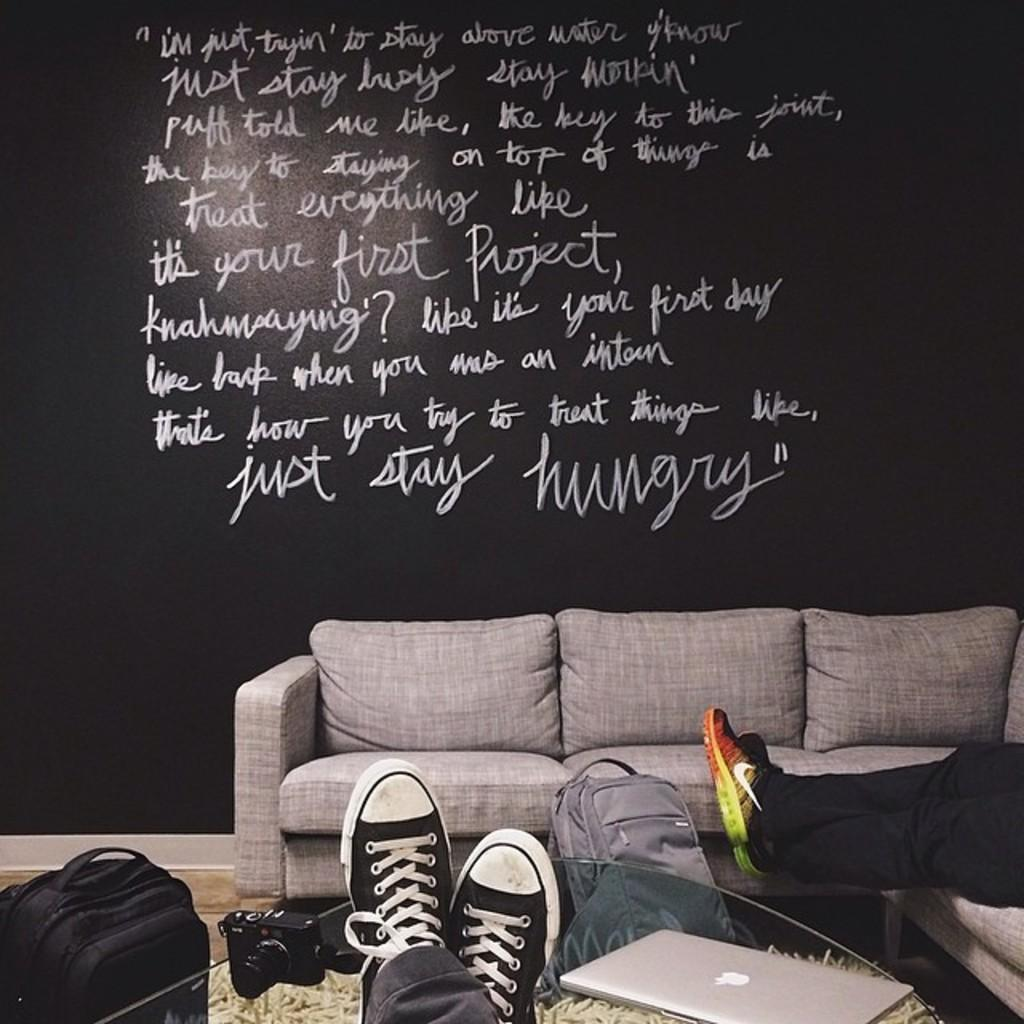Luggage-and-bags: (544, 757, 739, 954), (13, 848, 226, 1016)
